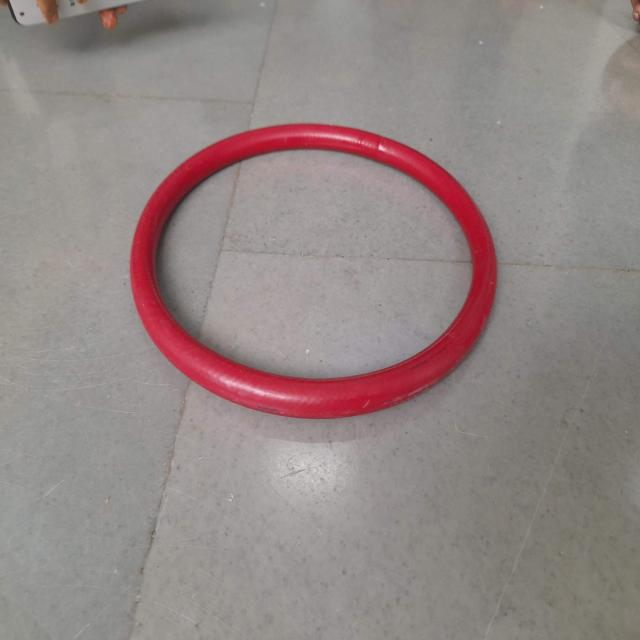daire: (133, 123, 498, 418)
